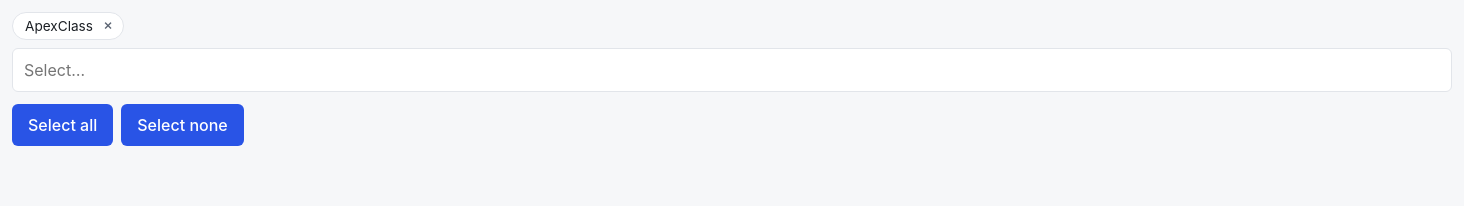
Scenario: MetadataTypeSelector › opens a dropdown of unselected types when the combobox is focused
Focus the dropdown: (732, 70) [12,48,1452,92]
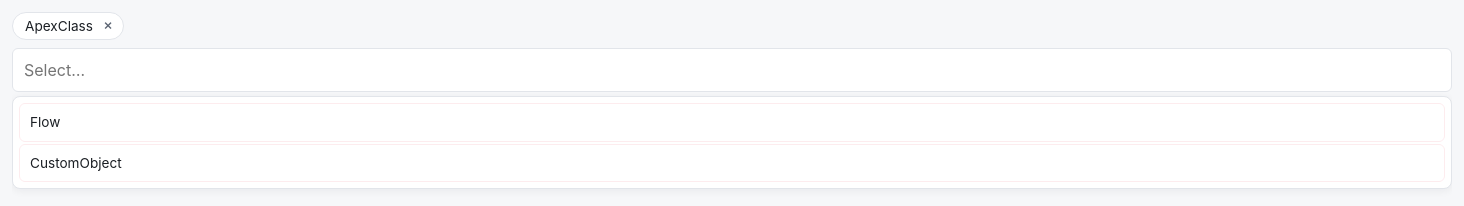
Expected: the option "Flow" is shown, [19,103,1445,142]
Expected: the option "CustomObject" is shown, [19,144,1445,182]
